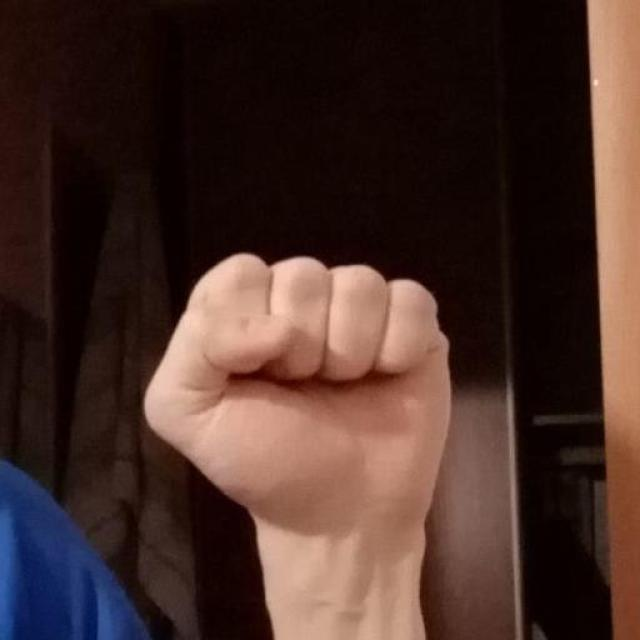hand: (142, 250, 452, 538)
